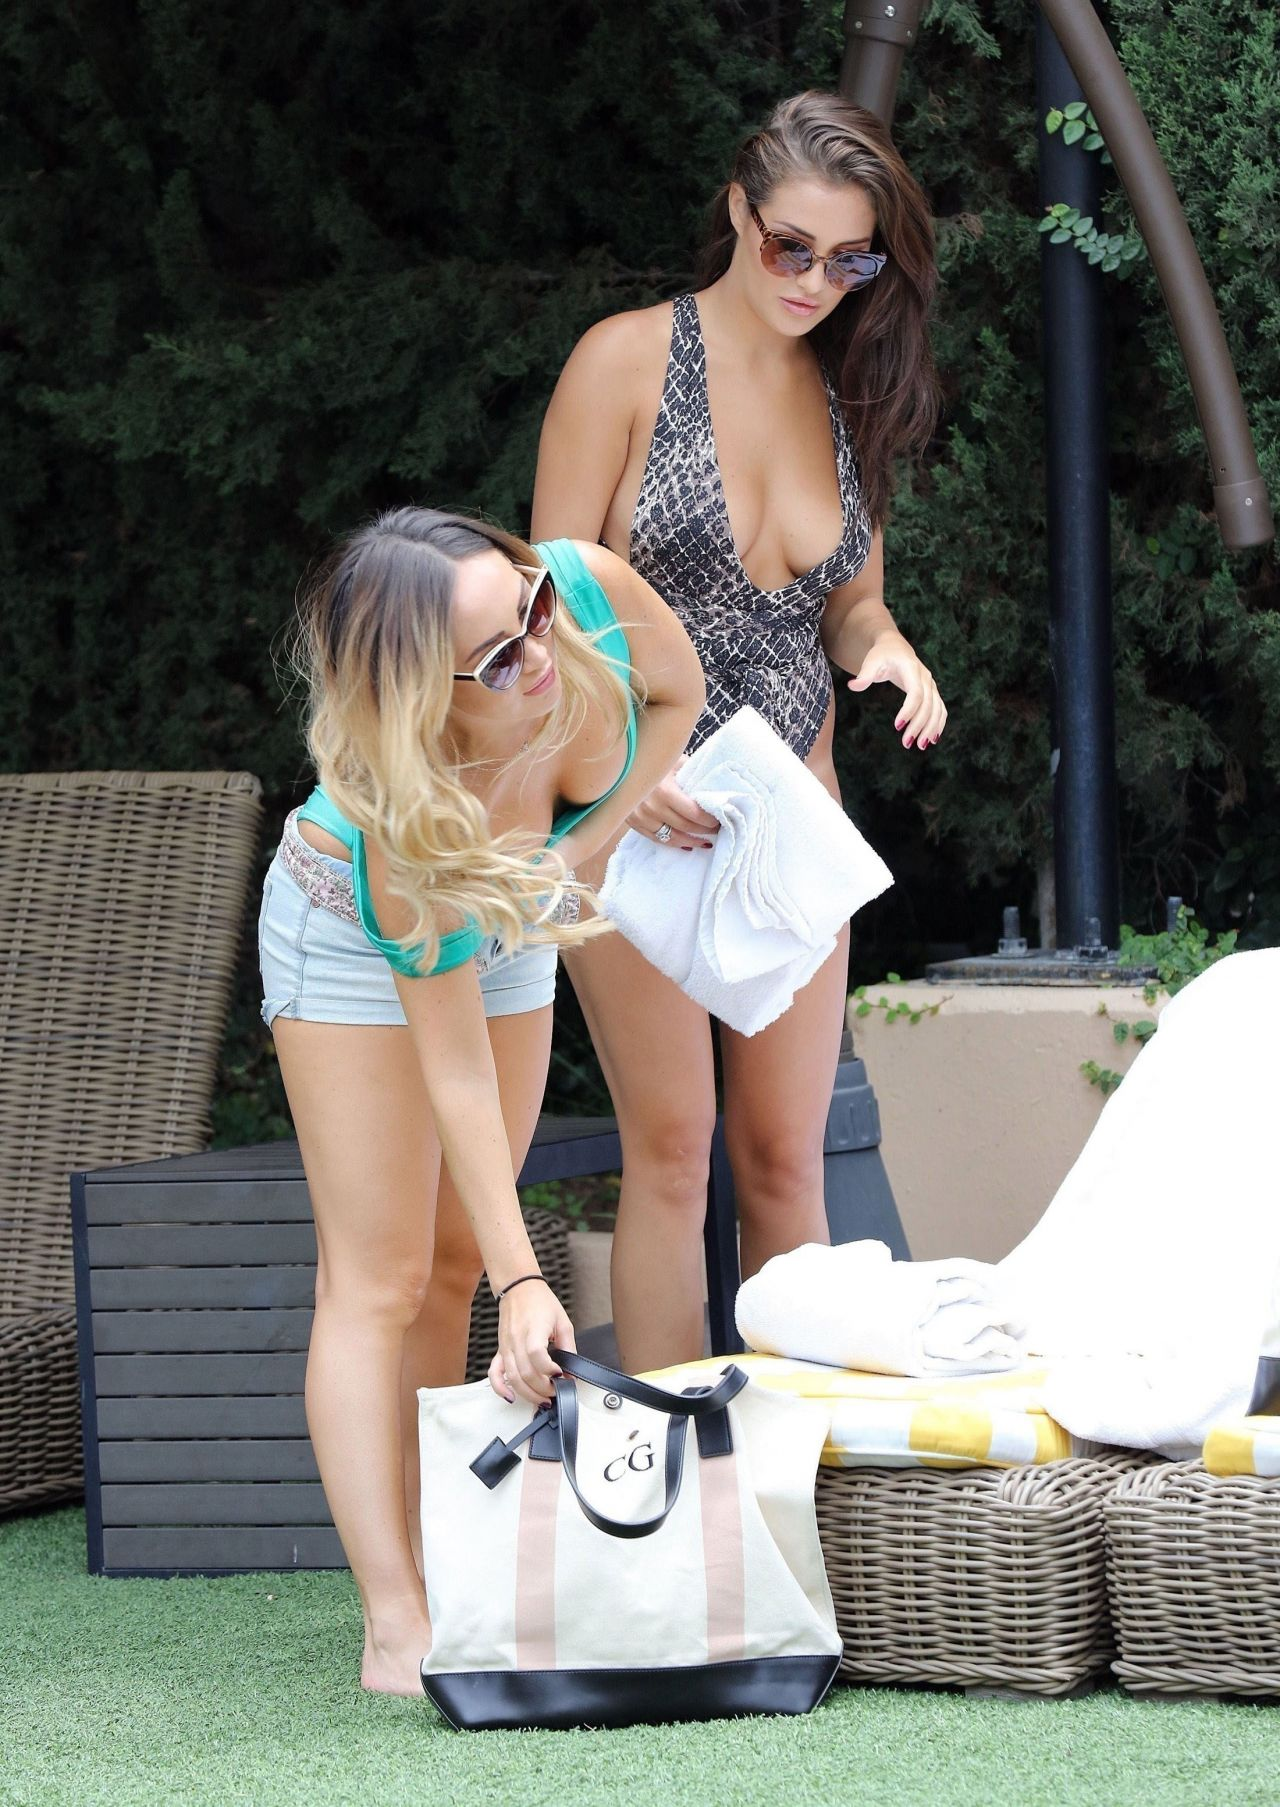Person: (212, 459, 759, 1709), (518, 73, 979, 1456)
